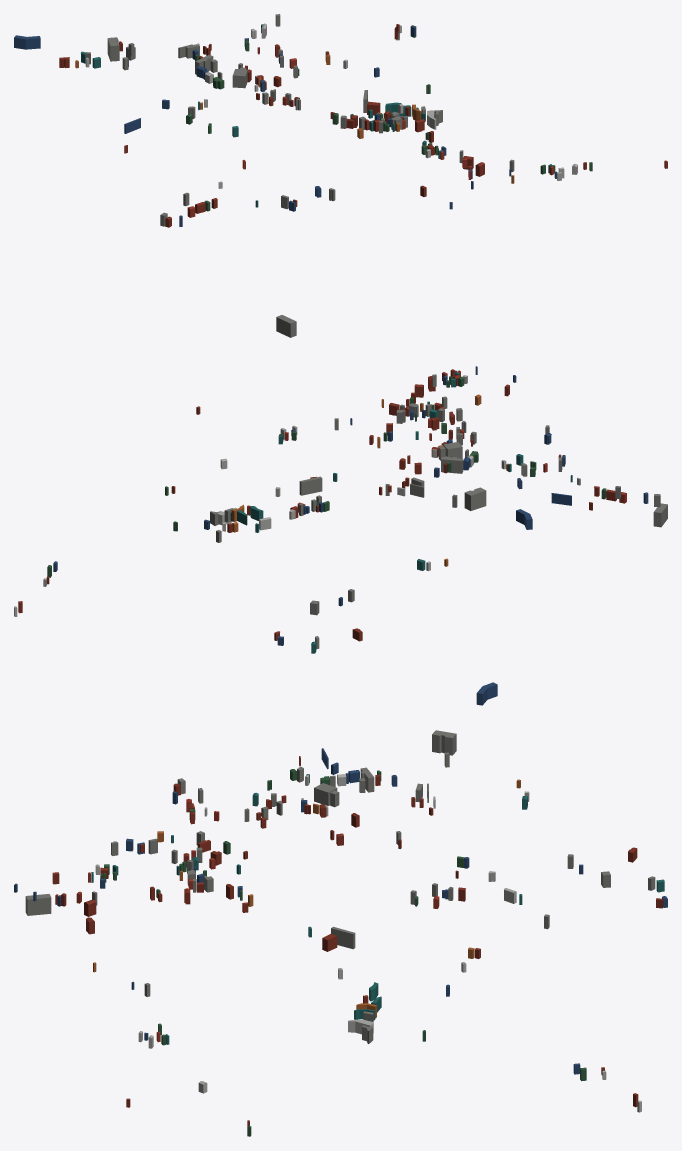
The model's file is near-15-27366-14867.e67529c7.glb.
The picture shows the model from 3 angles, top to bottom: view 1: azimuth 30°, elevation 25°; view 2: azimuth 150°, elevation 25°; view 3: azimuth 270°, elevation 25°; orthographic projection. The views are drawn at different scales.
Size of the model in its own units: 1148 by 376 by 1158.
